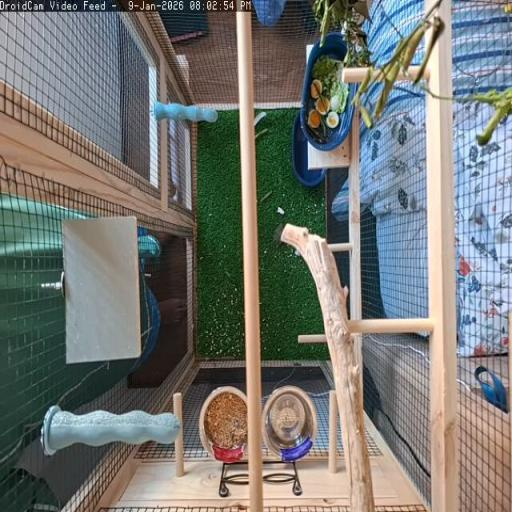bebedero: (262, 386, 316, 461)
comedero: (199, 386, 246, 463)
